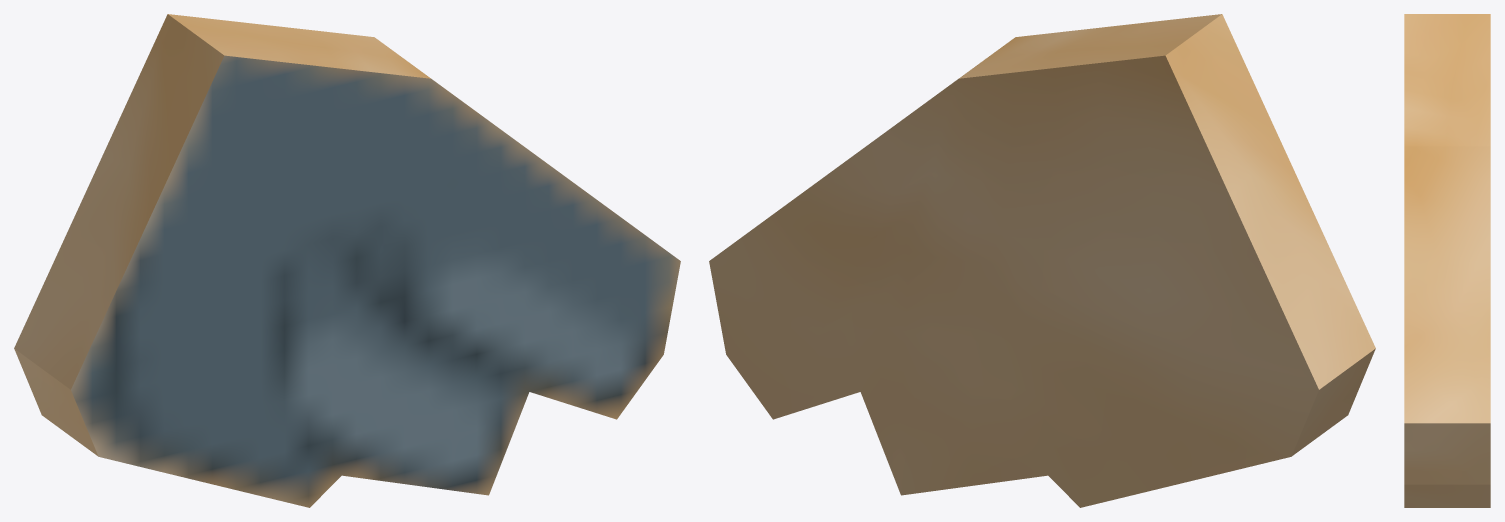
Rendered from statue02.fbx.
The picture shows the model from 3 angles, left to right: view 1: azimuth 30°, elevation 25°; view 2: azimuth 150°, elevation 25°; view 3: azimuth 270°, elevation 25°; orthographic projection. The views are drawn at different scales.
Parts seen in each view (by area): view 1: T_Sc_Eglise.009; view 2: T_Sc_Eglise.009; view 3: T_Sc_Eglise.009.
Part boxes in pixels (bbox=[...]): T_Sc_Eglise.009: bbox=[14, 14, 680, 507]; T_Sc_Eglise.009: bbox=[709, 14, 1375, 507]; T_Sc_Eglise.009: bbox=[1404, 14, 1490, 507].
Bounding box in the file's own units: 12.4 × 9.79 × 2.
